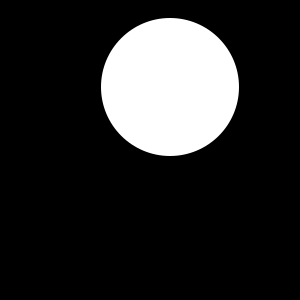rectangle: (101, 18, 239, 156)
